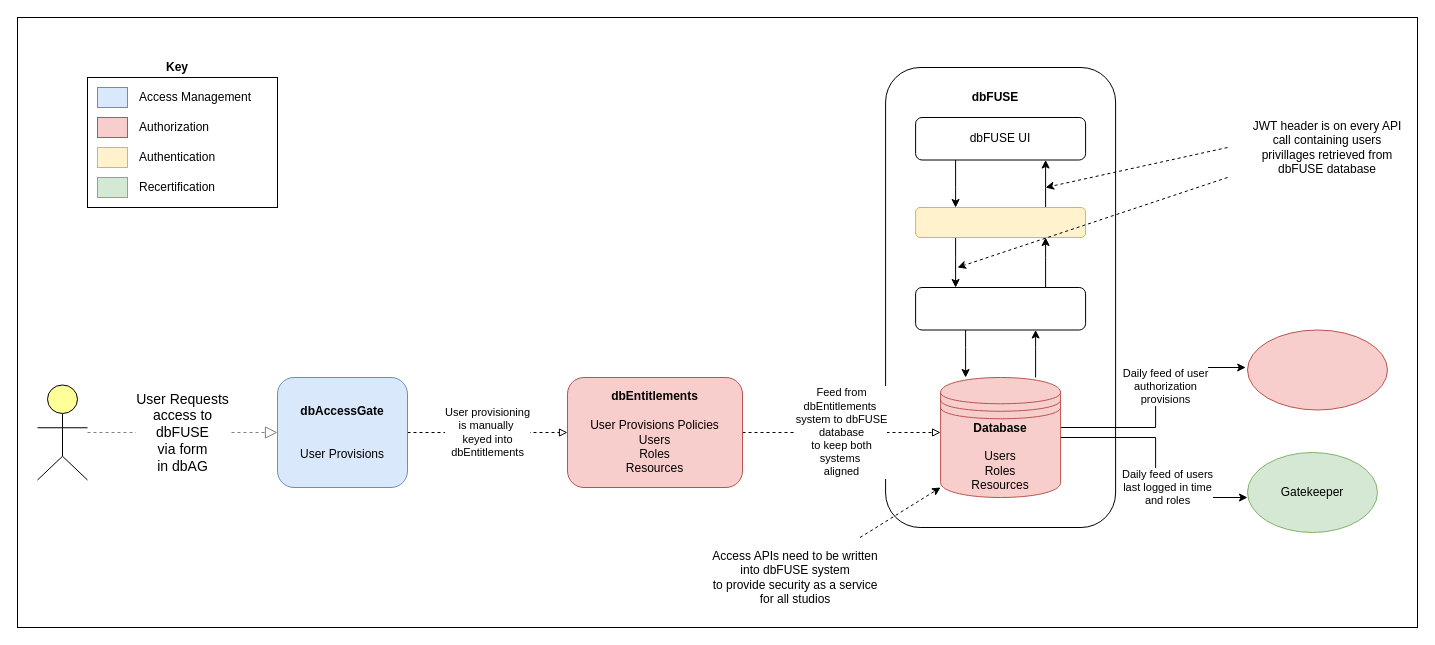
The diagram is 1435 pixels wide and 645 high, and some of its shapes have lost their labels. Here are the shapes that lost their labels. From the top down, the centre of each, then its label:
At pixel 1000 222: "EIDP Authentication Proxy".
At pixel 1000 308: "dbFUSE microservices".
At pixel 1317 369: "Downstream Systems".
